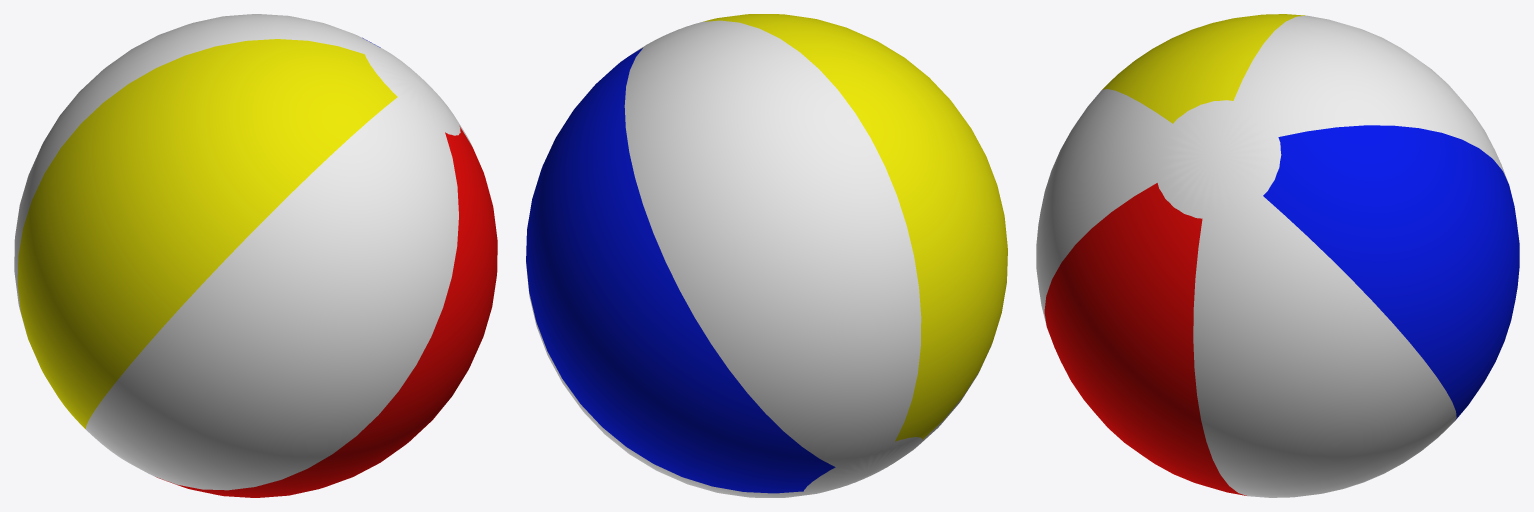
File: ball.glb
The picture shows the model from 3 angles, left to right: view 1: azimuth 30°, elevation 25°; view 2: azimuth 150°, elevation 25°; view 3: azimuth 270°, elevation 25°; orthographic projection.
Visible parts, largest first — view 1: BeachBall_0; view 2: BeachBall_0; view 3: BeachBall_0.
Part boxes in pixels (bbox=[...]): BeachBall_0: bbox=[14, 14, 497, 497]; BeachBall_0: bbox=[526, 14, 1007, 497]; BeachBall_0: bbox=[1036, 14, 1519, 497].
Size of the model in its own units: 1.97 by 1.97 by 1.96.
